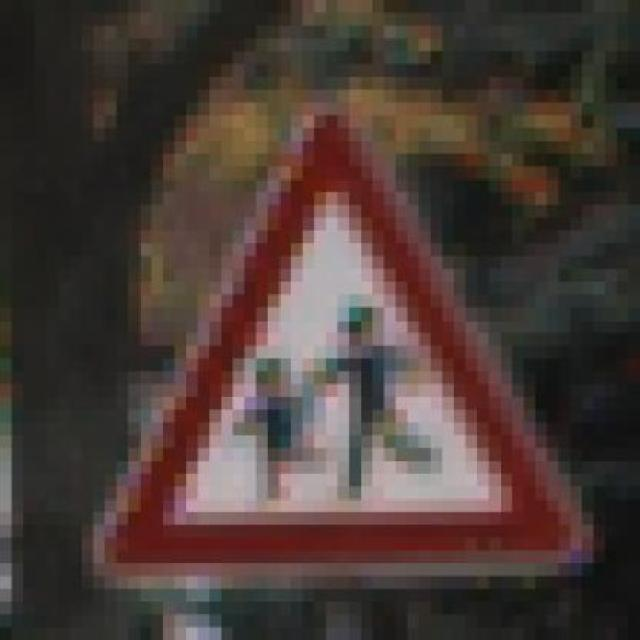Beware of children: (81, 102, 582, 602)
